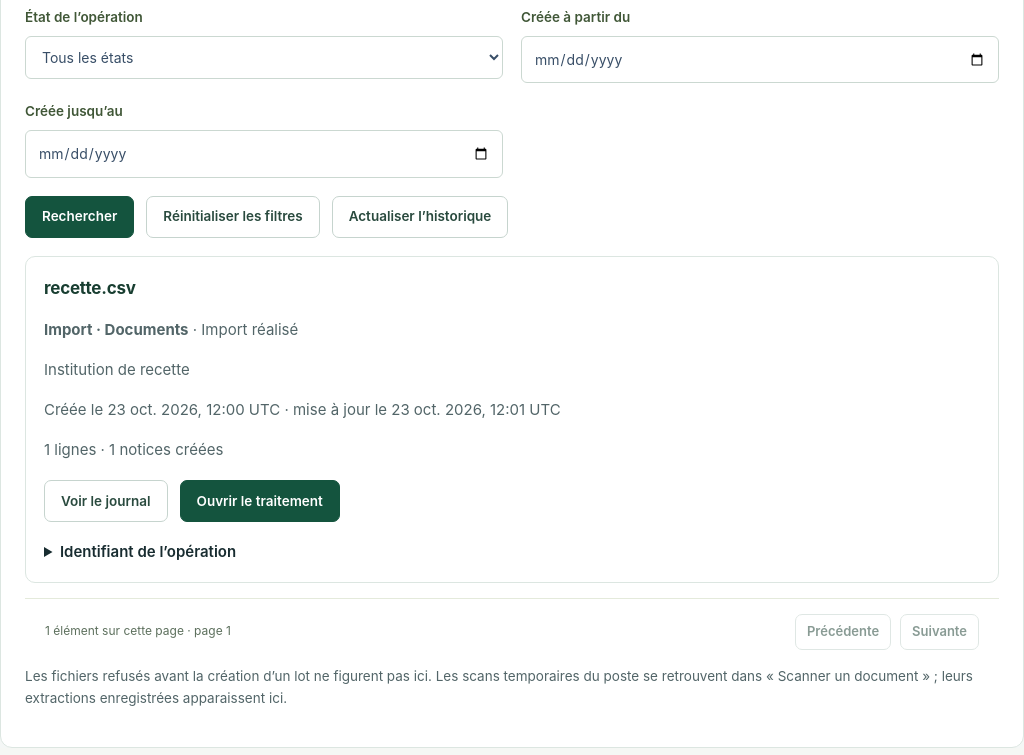
Test: charge un journal daté seulement à la demande, avec texte échappé
(page scrolled)
Expected: the heading "recette.csv" is shown, [44, 278, 136, 298]
Step 1. Click the button "Voir le journal" → (106,501), box [44, 480, 168, 522]
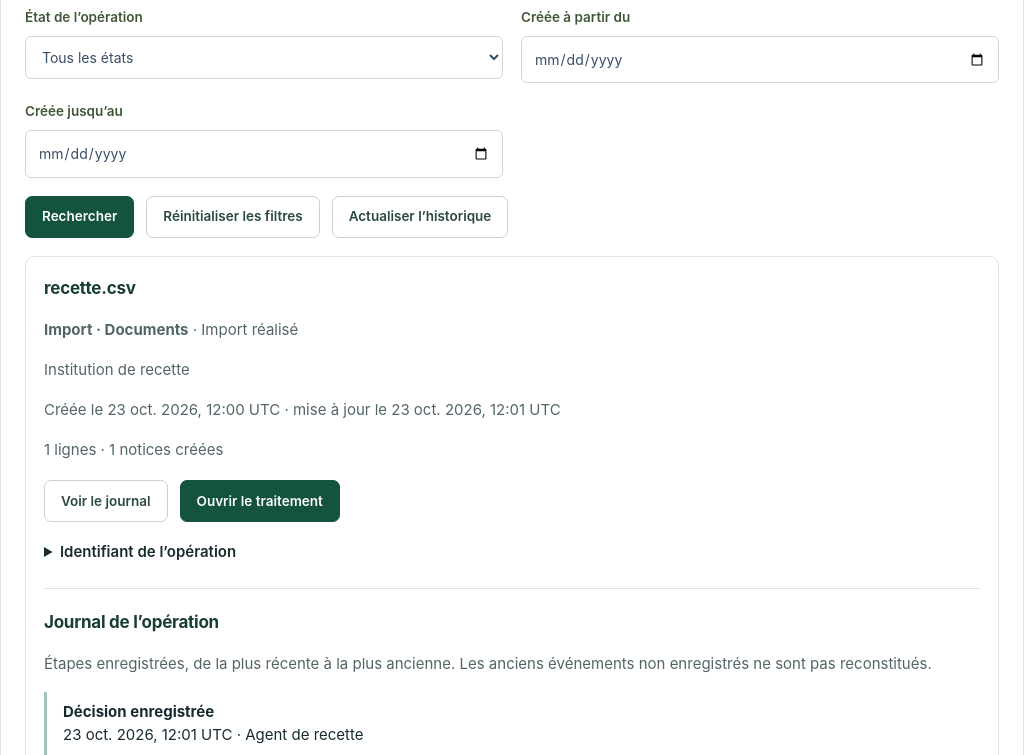
Expected: the text "Décision enregistrée" is shown, [63, 702, 214, 721]
Expected: the text "23 oct. 2026, 12:01 UTC · Agent de recette" is shown, [63, 725, 364, 744]
Step 2. Click the button "Voir le journal" → (106,501), box [44, 480, 168, 522]
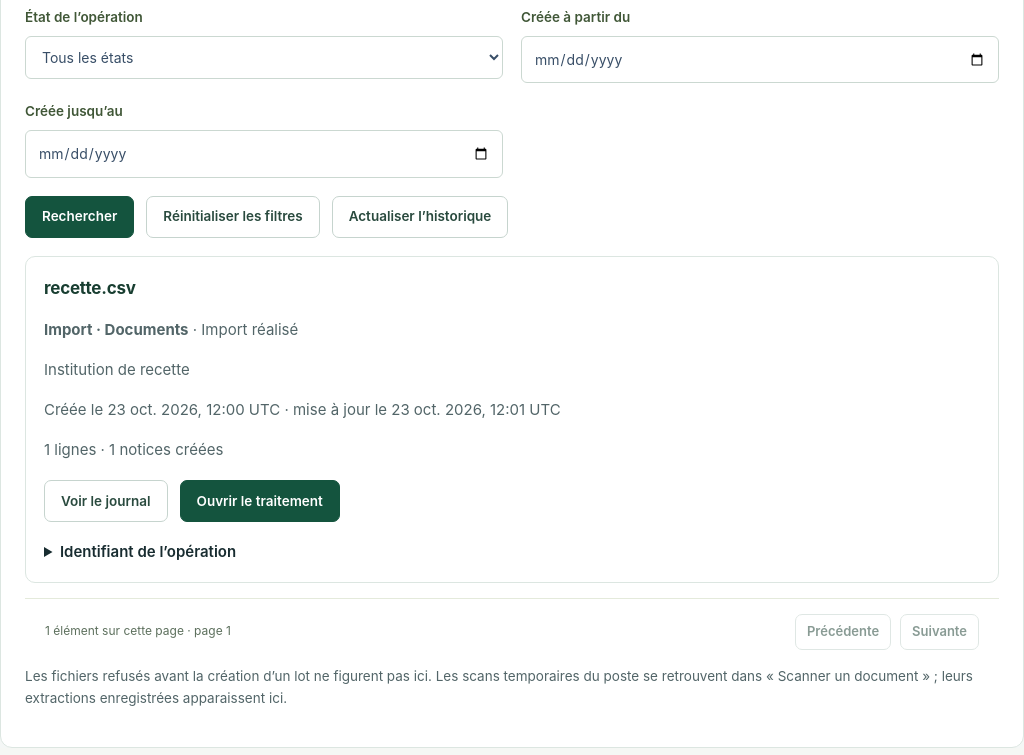
Expected: the text "Décision enregistrée" is gone
